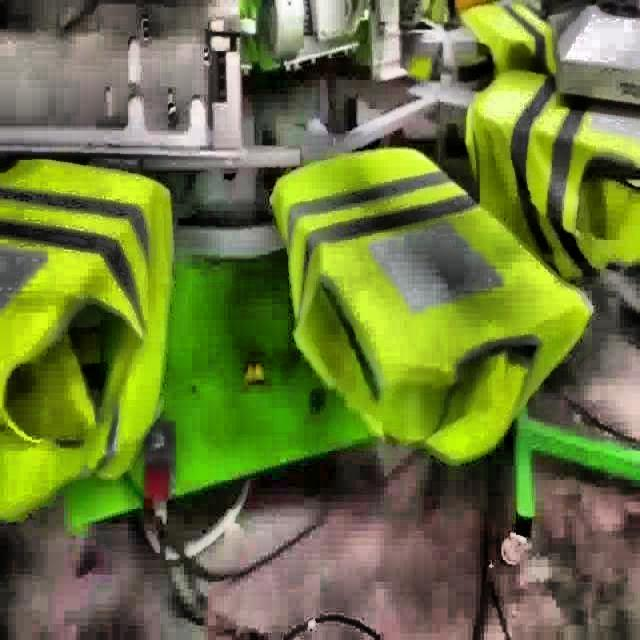safety_jacket: (270, 143, 591, 471), (2, 155, 175, 528), (464, 63, 638, 279), (456, 0, 560, 86)
